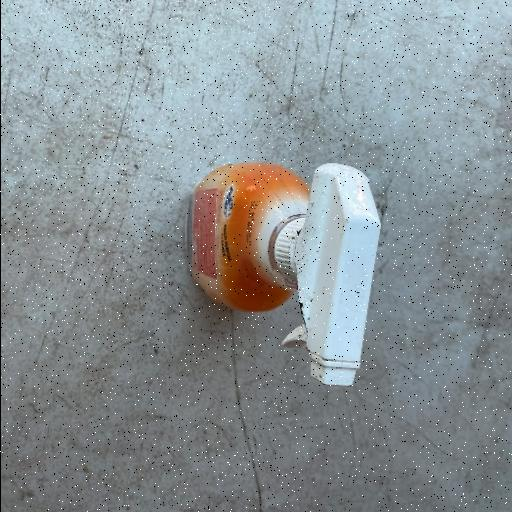Plastic: (184, 158, 384, 388), (184, 160, 312, 314)
